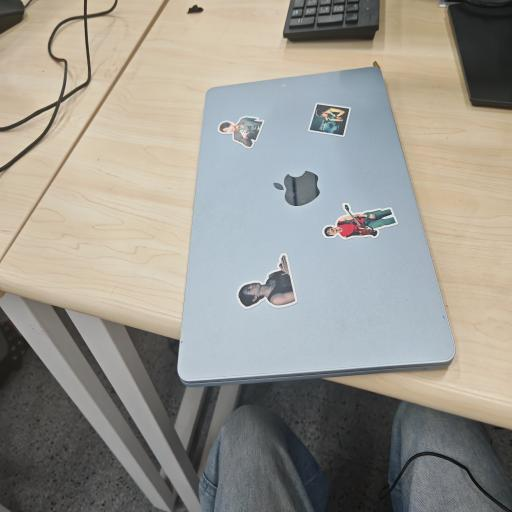laptop: (178, 68, 454, 385)
mouse: (0, 0, 24, 33)
